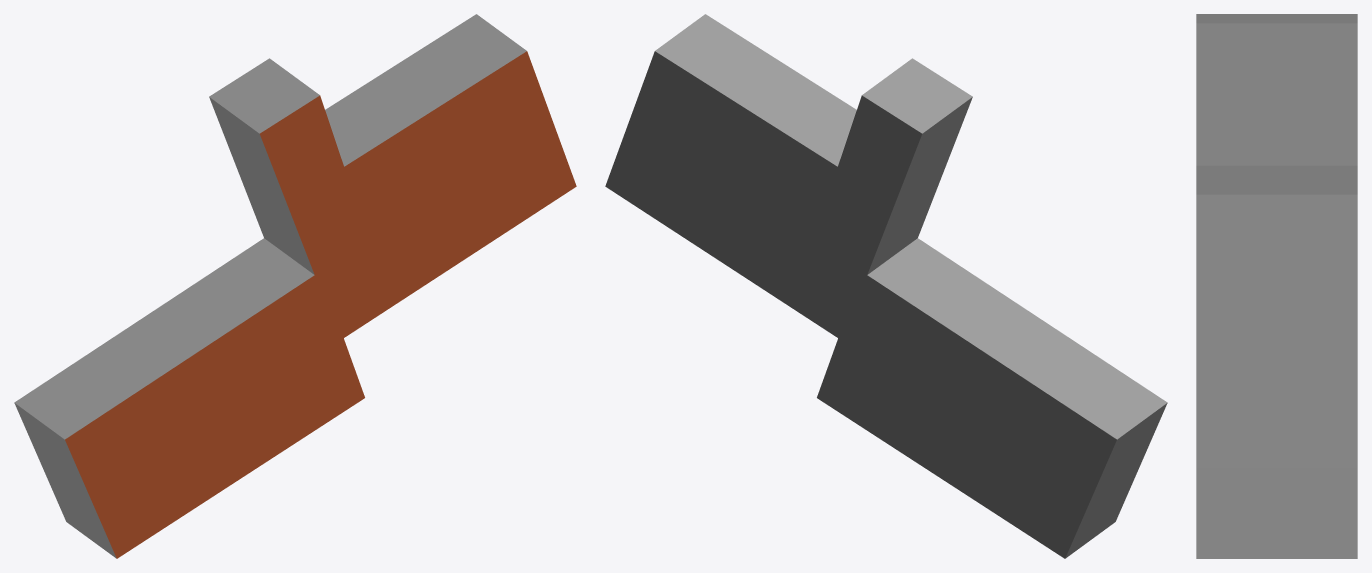
File: construction_2291_assumed_A_Casa_h6m.obj
3 views of the same model, side by side, from view 1: azimuth 30°, elevation 25°; view 2: azimuth 150°, elevation 25°; view 3: azimuth 270°, elevation 25° (orthographic). The views are drawn at different scales.
Visible parts, largest first — view 1: construction_2291_assumed_A_Casa; view 2: construction_2291_assumed_A_Casa; view 3: construction_2291_assumed_A_Casa.
Part boxes in pixels (<box>): construction_2291_assumed_A_Casa: <box>14,14,576,558</box>; construction_2291_assumed_A_Casa: <box>605,14,1167,558</box>; construction_2291_assumed_A_Casa: <box>1196,14,1357,558</box>.
Bounding box in the file's own units: 35.03 × 27.08 × 6.
